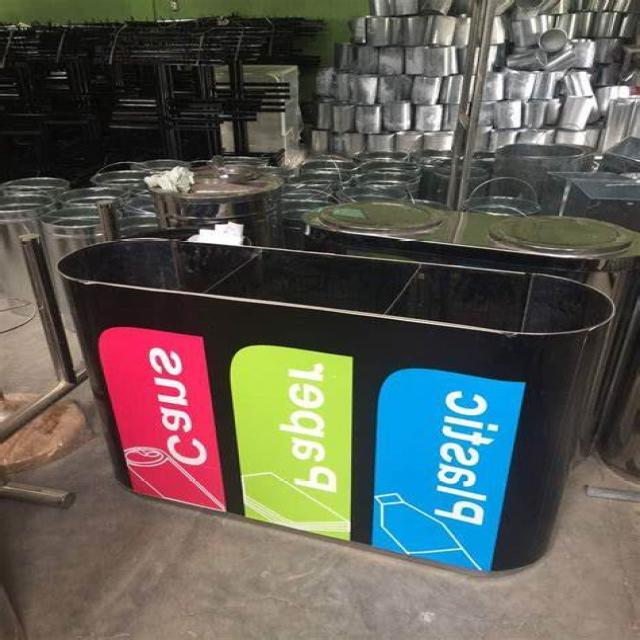garbage container: (29, 228, 618, 578)
